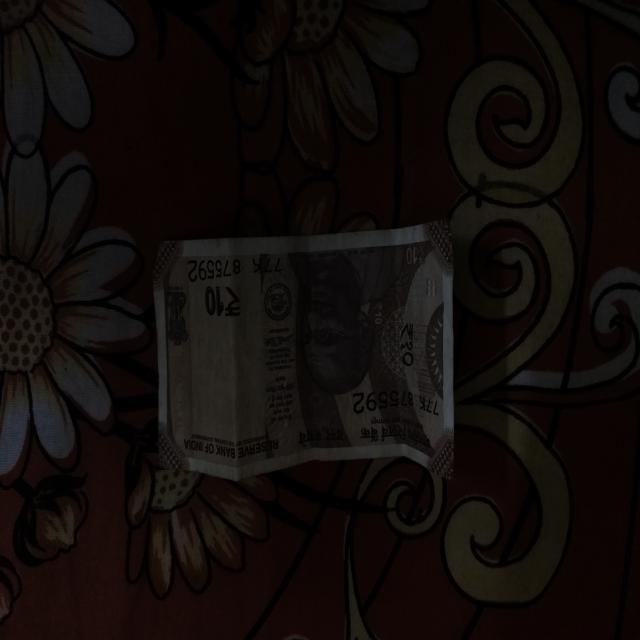10rs: (152, 235, 456, 473)
